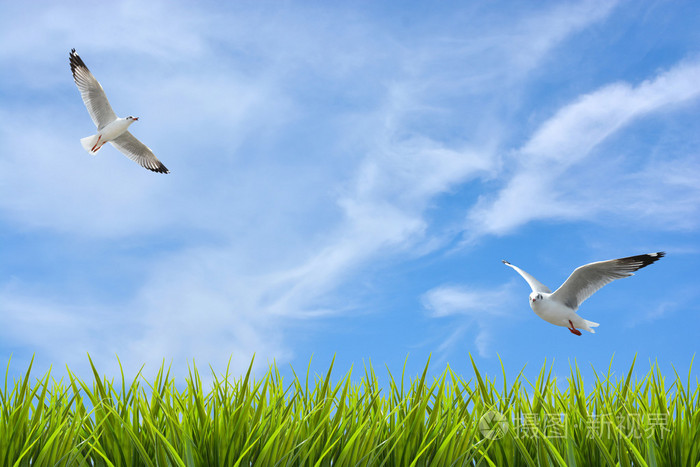bird: (494, 251, 668, 337), (67, 46, 170, 173)
